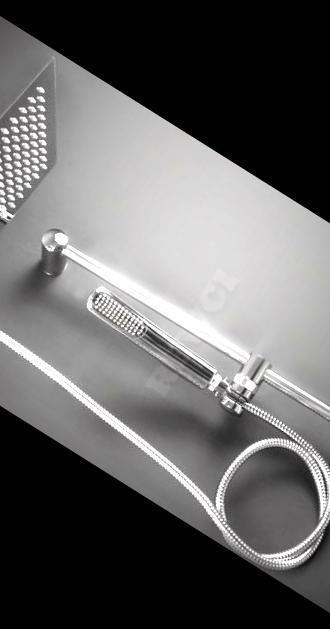Ducha: (0, 8, 330, 621)
